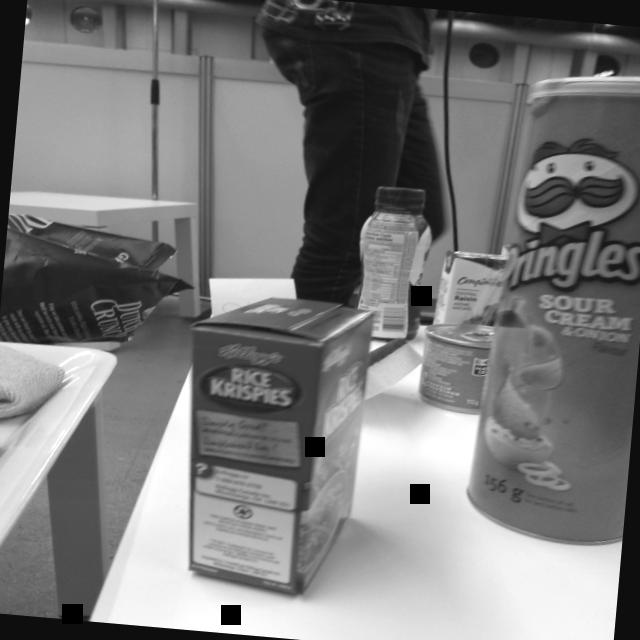cereal: (162, 285, 380, 609)
chocolate_drink: (346, 178, 434, 343)
grape_juice: (433, 245, 507, 335)
potato_chips: (0, 207, 194, 345)
pringles: (447, 52, 640, 552)
sausages: (417, 317, 496, 419)
scrubby: (363, 336, 424, 407)
